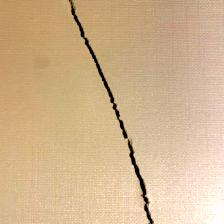Medium: (67, 11, 158, 196)
